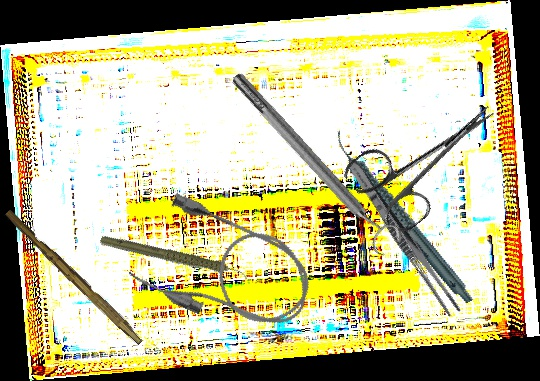Cannula: (124, 188, 326, 351)
Dressing Forceps: (341, 154, 465, 320)
Fixation Ring: (222, 62, 408, 261)
Handpiece: (331, 109, 474, 325), (98, 206, 250, 312)
Iris Scissors: (340, 72, 518, 242)
Scalpel Handle: (1, 208, 148, 346)
